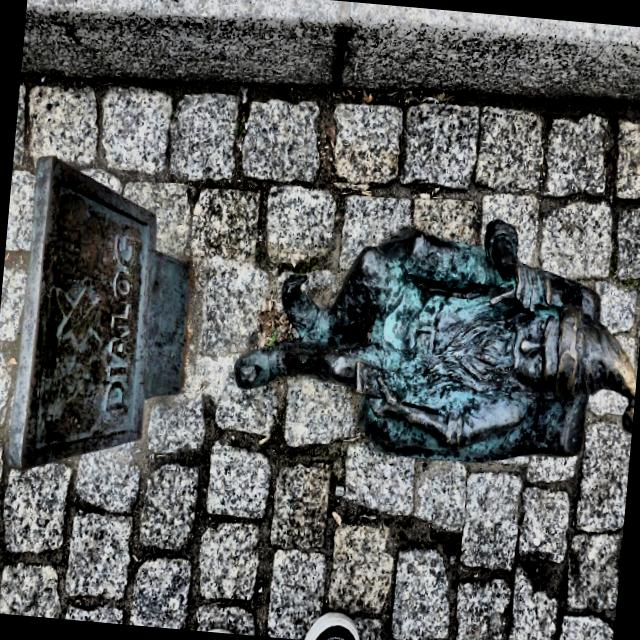Dialogomir: (233, 222, 637, 464), (6, 157, 192, 472)
